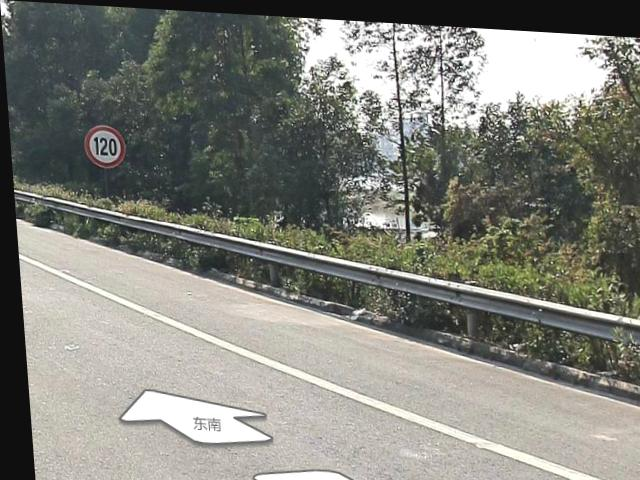limit120: (79, 122, 127, 168)
